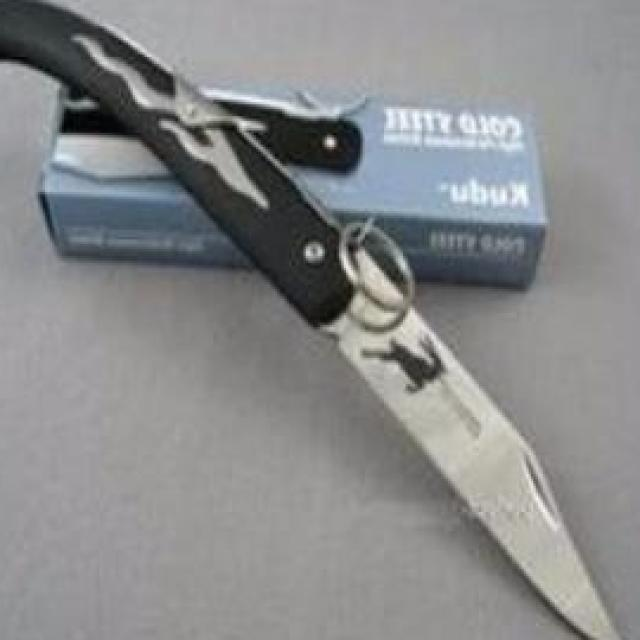knife: (296, 239, 638, 640)
